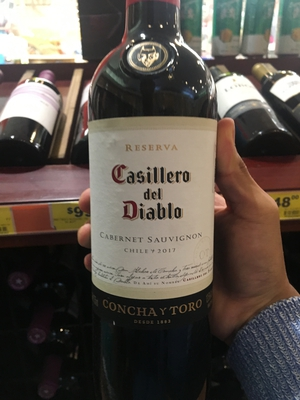casillero del diablo cabernet sauvignon: (84, 16, 222, 385)
